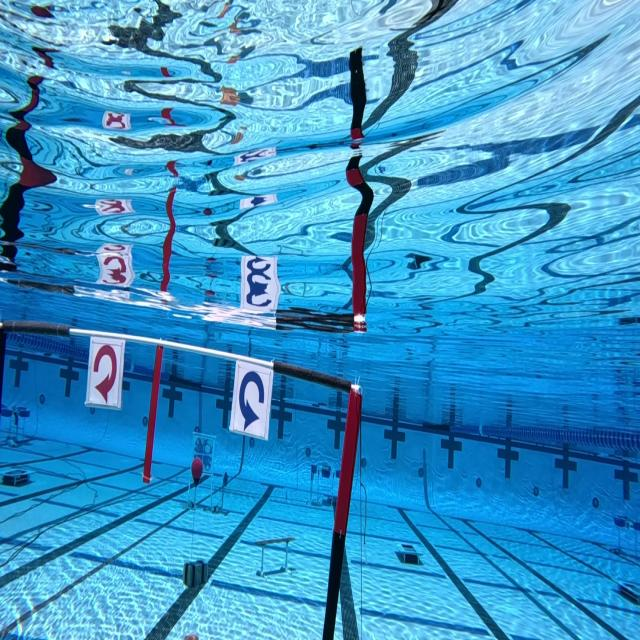blue_side: (228, 353, 276, 447)
red_side: (85, 329, 128, 410)
